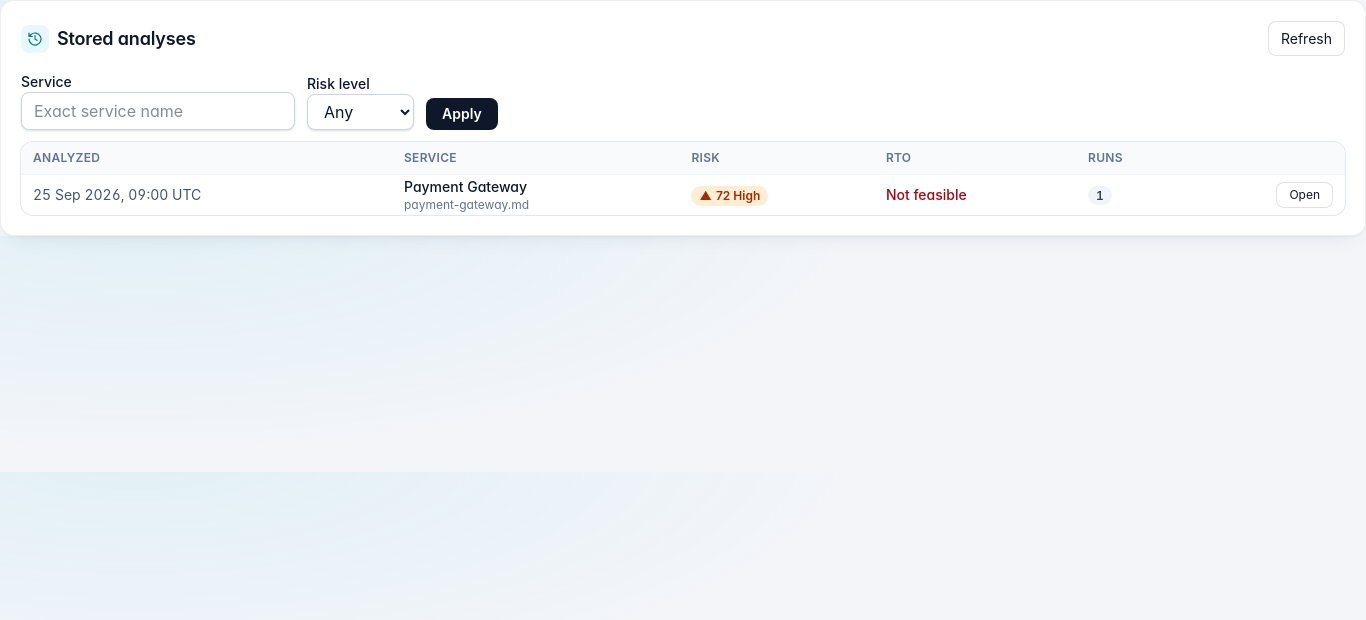
Scenario: HistoryView › lists stored analyses and opens one with its report
This screenshot has width=1366, height=620.
expect the text "Not feasible" is shown: met, box [874,174,1076,215]
expect the text "72 High" is shown: met, box [716,188,760,202]
Click the button with aria-label "Open Payment Gateway analysis from 25 Sep 2026, 09:00 UTC" at {"x": 1305, "y": 195}, box [1276,182,1333,208]
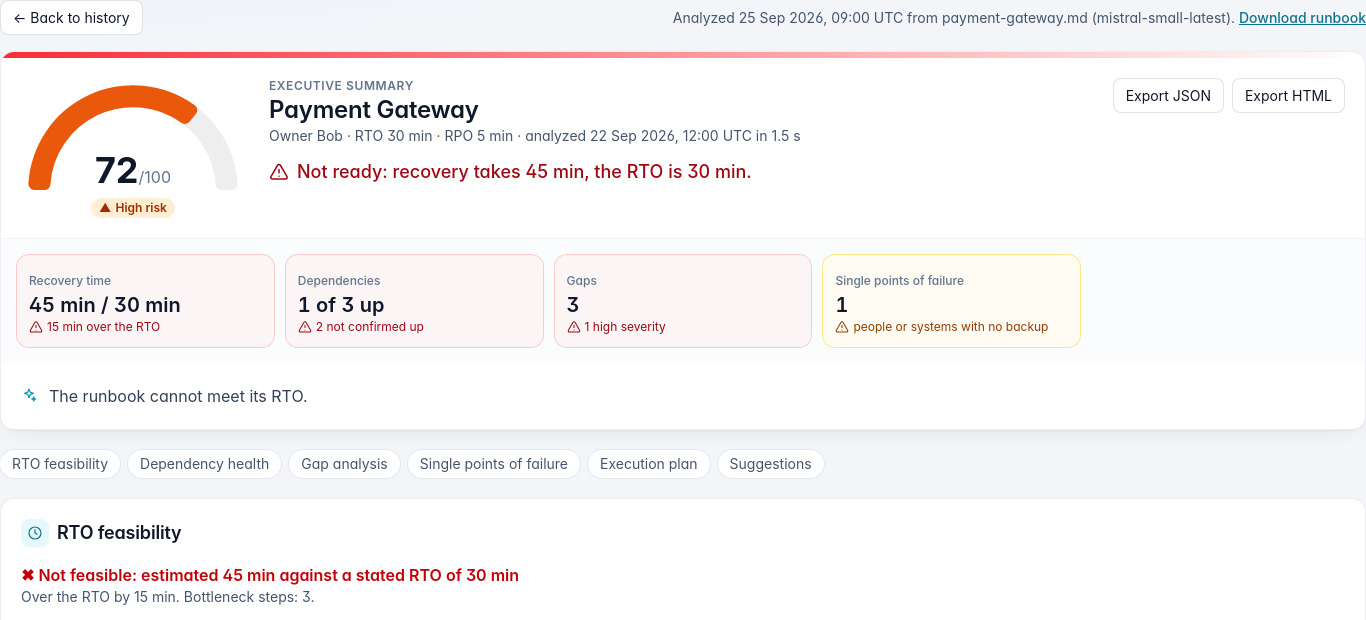
expect the heading "Payment Gateway" is shown: met, box [269,95,479,124]
expect the text "mistral-small-latest" is shown: met, box [1097,8,1226,26]
